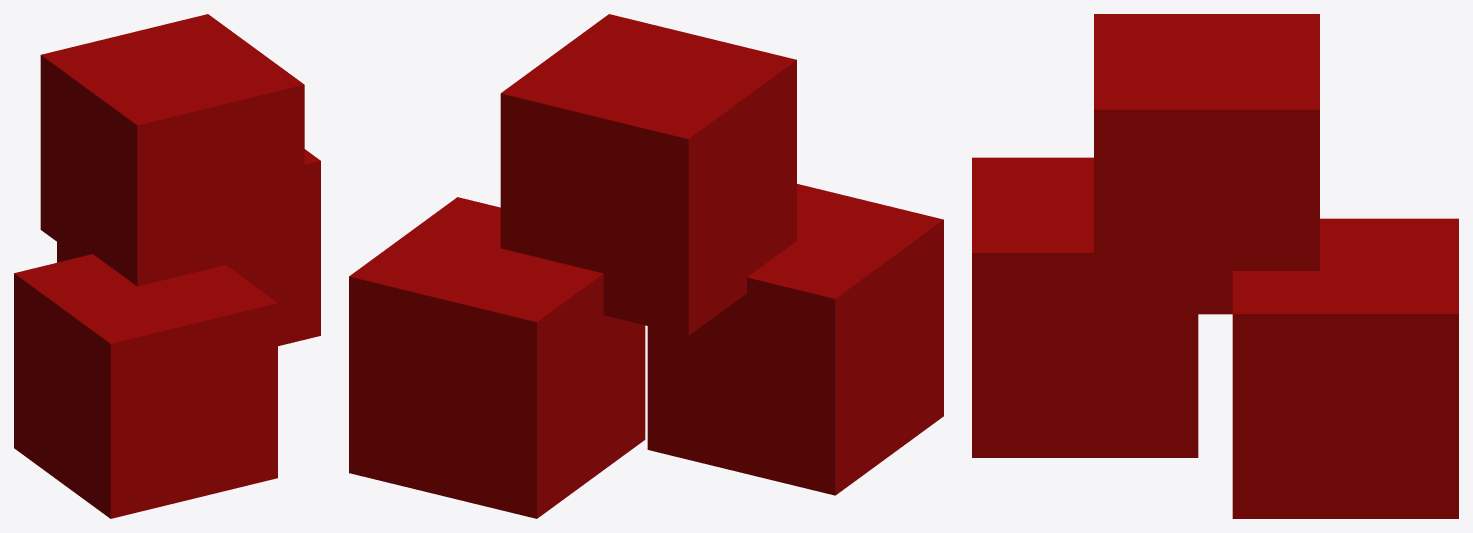
The model's file is objecte2.obj.
The picture shows the model from 3 angles, left to right: view 1: azimuth 30°, elevation 25°; view 2: azimuth 150°, elevation 25°; view 3: azimuth 270°, elevation 25°; orthographic projection. The views are drawn at different scales.
Parts seen in each view (by area): view 1: Cube, Cube.001, Cube.002; view 2: Cube, Cube.002, Cube.001; view 3: Cube, Cube.002, Cube.001.
Boxes of the visible parts, x1,y1,x2,y2 form: Cube: [40, 14, 304, 286]; Cube.001: [14, 254, 277, 518]; Cube.002: [57, 149, 320, 346]; Cube: [500, 14, 796, 335]; Cube.002: [349, 197, 645, 518]; Cube.001: [647, 184, 943, 495]; Cube: [1094, 14, 1319, 314]; Cube.002: [1232, 218, 1458, 518]; Cube.001: [972, 157, 1198, 457].
Bounding box in the file's own units: 3.84 × 3.84 × 4.31.
